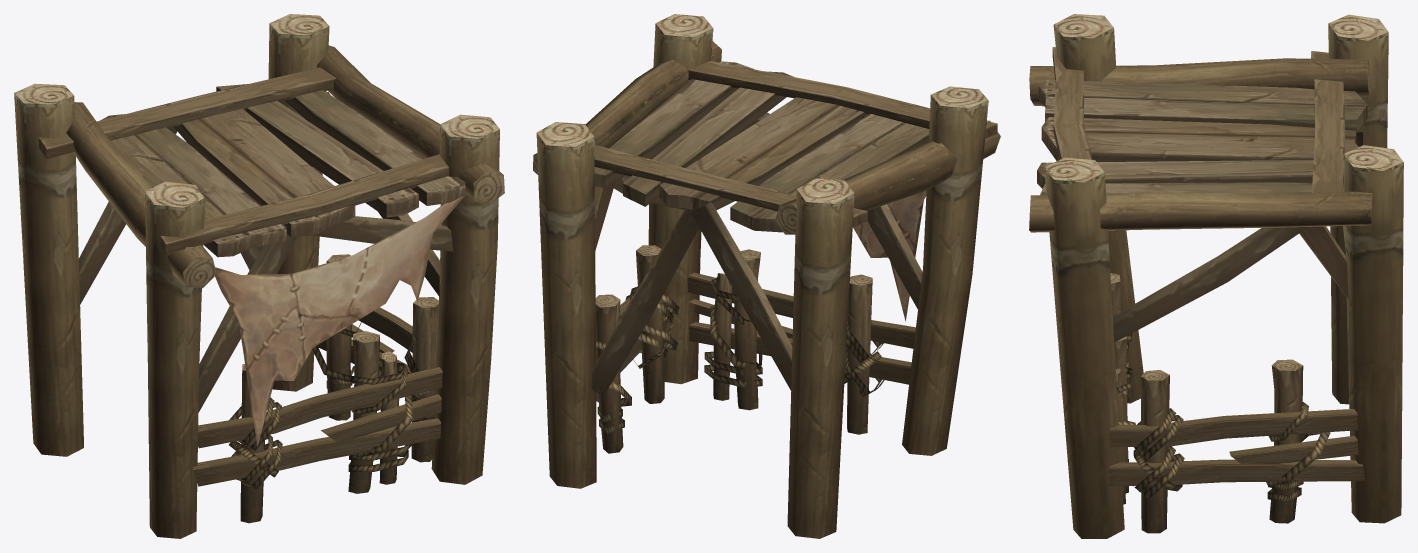
The model's file is fb_chisd_mujia_b.FBX.
3 renders of one model, left to right at view 1: azimuth 30°, elevation 25°; view 2: azimuth 150°, elevation 25°; view 3: azimuth 270°, elevation 25°, orthographic. The views are drawn at different scales.
Visible parts, largest first — view 1: fb_chisd_mujia_b; view 2: fb_chisd_mujia_b; view 3: fb_chisd_mujia_b.
Boxes of the visible parts, x1=… form: fb_chisd_mujia_b: x1=14, y1=14, x2=504, y2=538; fb_chisd_mujia_b: x1=533, y1=14, x2=1000, y2=538; fb_chisd_mujia_b: x1=1029, y1=14, x2=1403, y2=538.
Size of the model in its own units: 431 by 432 by 401.
